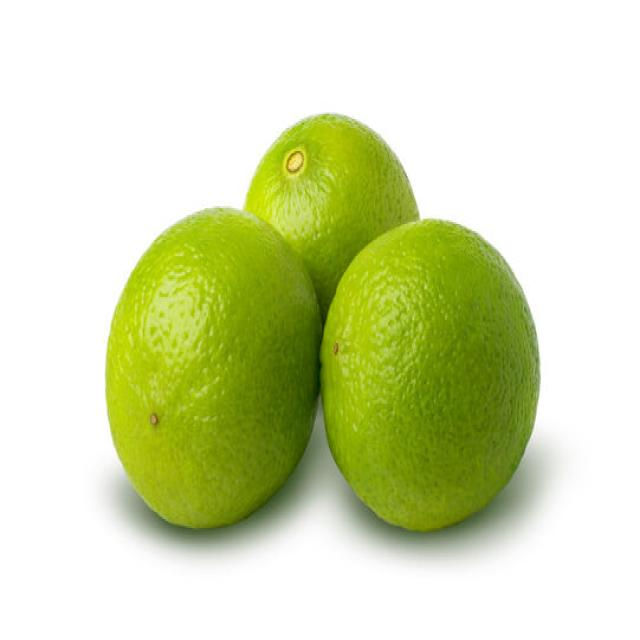Lemon: (104, 204, 322, 530), (318, 215, 541, 532), (242, 110, 419, 320)
